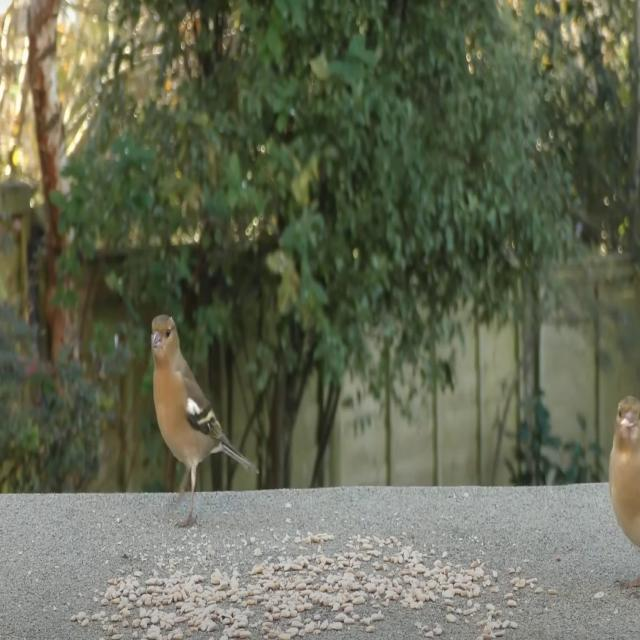beak: (620, 412, 635, 432), (149, 331, 163, 352)
bird: (144, 311, 258, 532), (609, 392, 640, 599)
